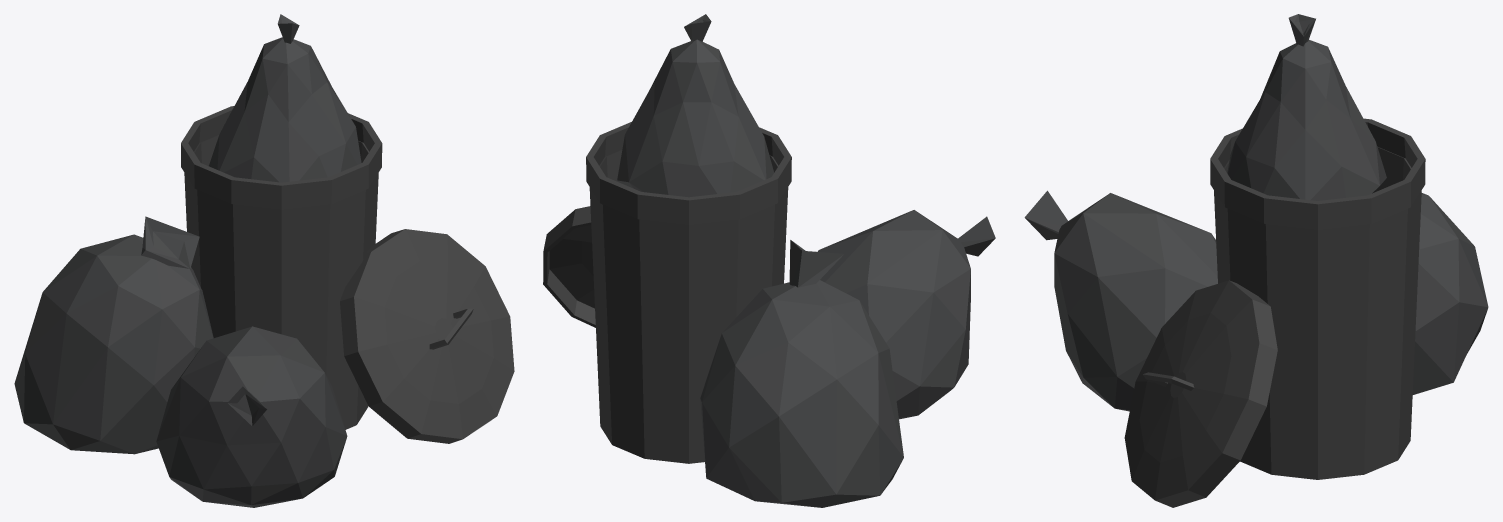
File: SM_trashbin_04.fbx
3 renders of one model, left to right at view 1: azimuth 30°, elevation 25°; view 2: azimuth 150°, elevation 25°; view 3: azimuth 270°, elevation 25°, orthographic. The views are drawn at different scales.
Visible parts, largest first — view 1: Cylinder029; view 2: Cylinder029; view 3: Cylinder029.
Boxes of the visible parts, <box> form: Cylinder029: <box>14,14,514,507</box>; Cylinder029: <box>543,14,995,507</box>; Cylinder029: <box>1024,14,1488,507</box>.
Bounding box in the file's own units: 53.1 × 50.3 × 49.1.
